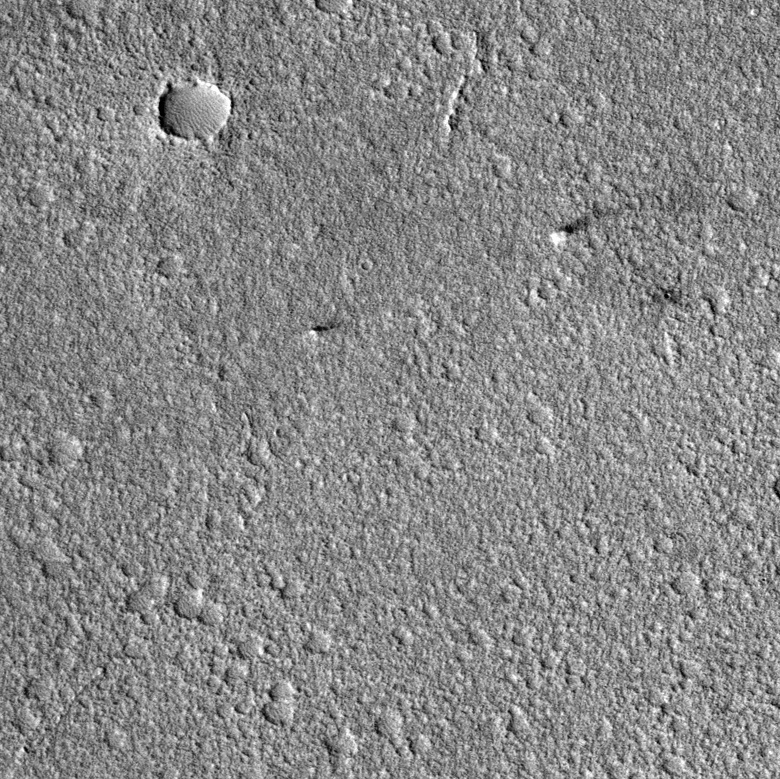dust_devil: (548, 206, 610, 247), (308, 321, 339, 337)
